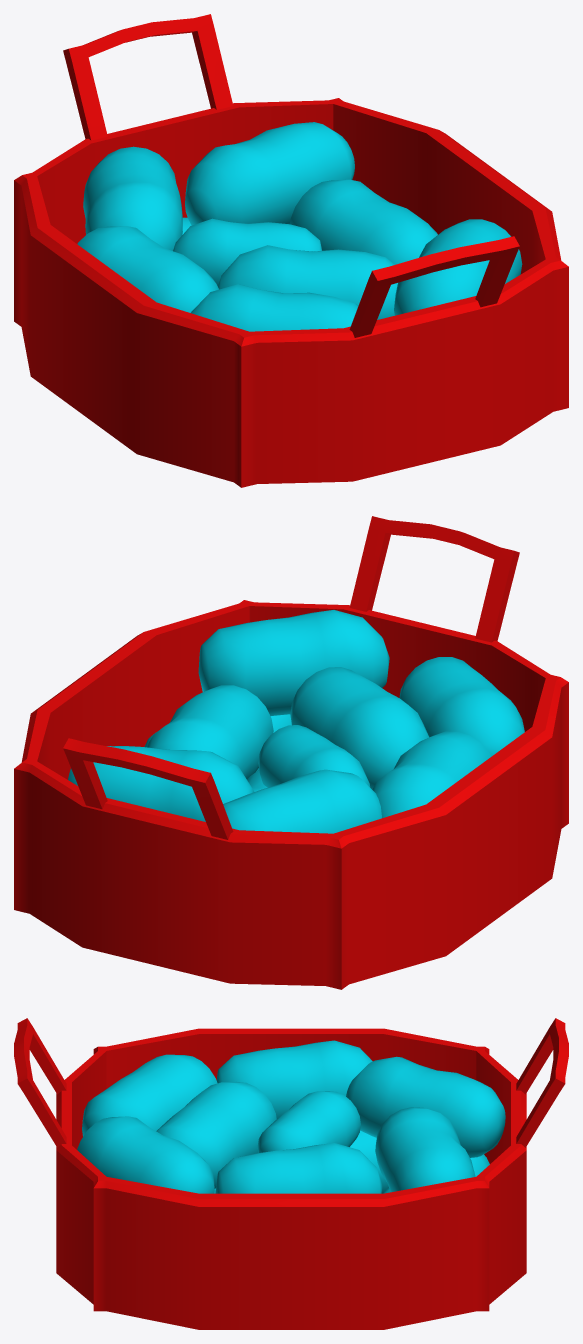
The model's file is PotatoBasket.fbx.
The picture shows the model from 3 angles, top to bottom: view 1: azimuth 30°, elevation 25°; view 2: azimuth 150°, elevation 25°; view 3: azimuth 270°, elevation 25°; orthographic projection. The views are drawn at different scales.
Visible parts, largest first — view 1: PotatoBasket; view 2: PotatoBasket; view 3: PotatoBasket.
Part boxes in pixels (bbox=[...]): PotatoBasket: bbox=[14, 14, 568, 487]; PotatoBasket: bbox=[14, 516, 568, 989]; PotatoBasket: bbox=[14, 1018, 568, 1329].
Bounding box in the file's own units: 222 × 116 × 295.
